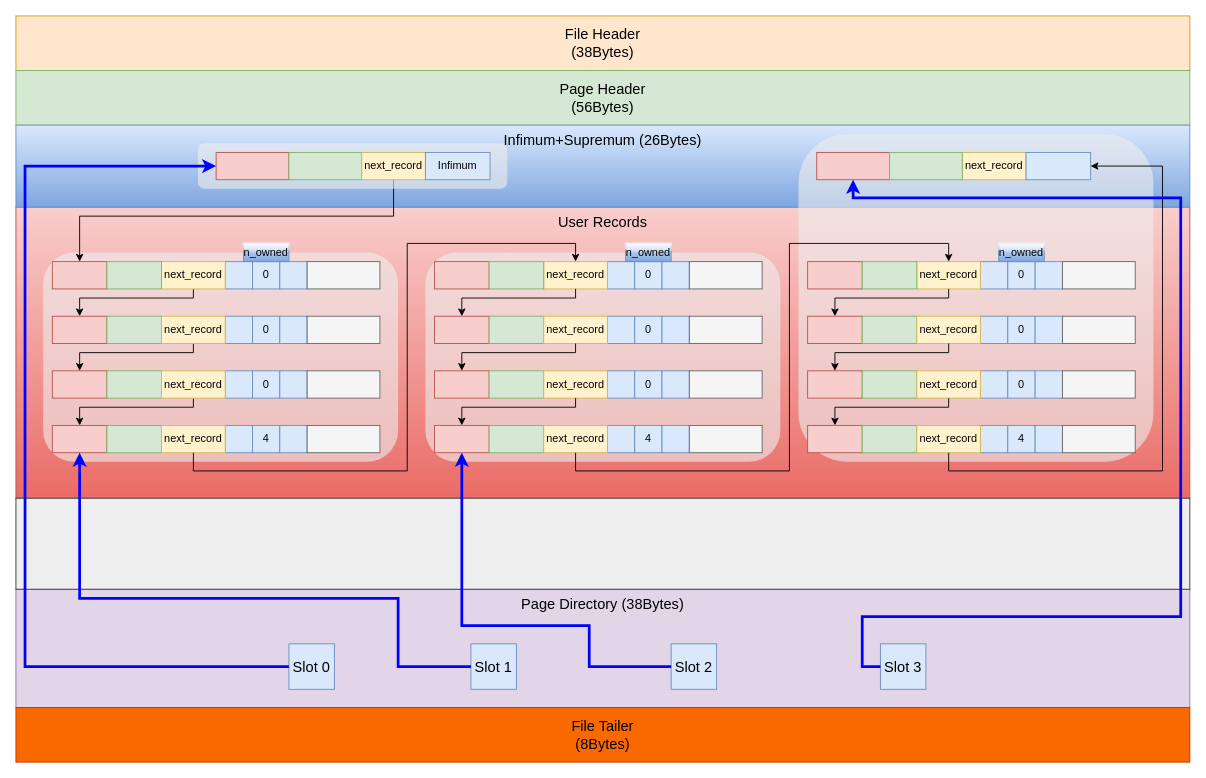
Some shapes in this 1206 by 778 pixel diagram are drawn without their labels. Each missing label, with the centre of its shape:
Free Space: the point at 602,543
Supremum: the point at 1058,166
